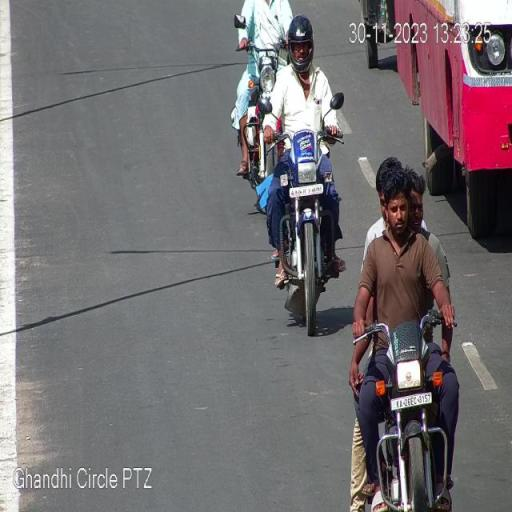tripple riding: (351, 156, 459, 338)
